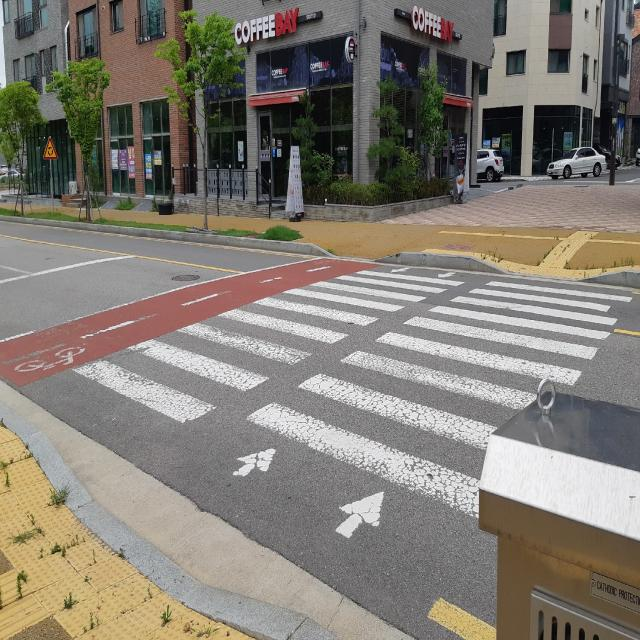횡단보도: (68, 257, 636, 544)
